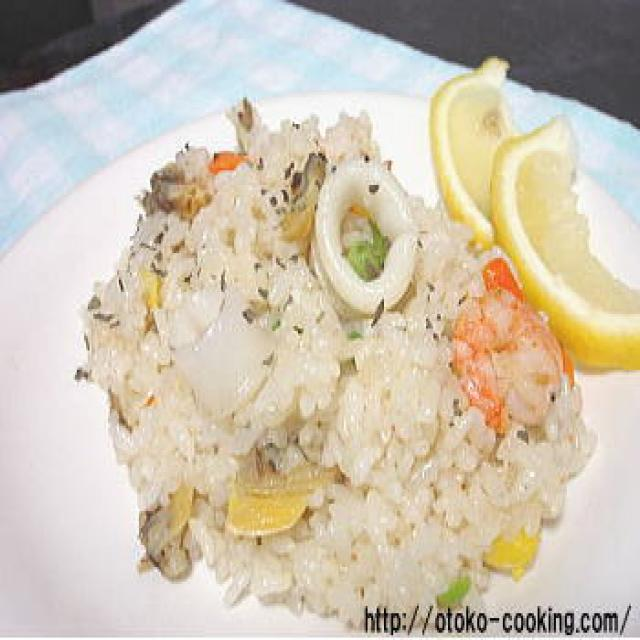米饭主食: (0, 93, 640, 584)
